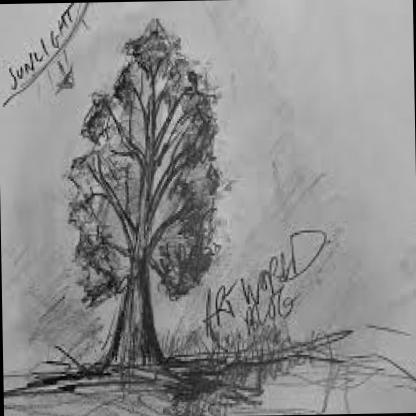root_none: (70, 334, 206, 405)
trunk_straight: (110, 280, 160, 354)
